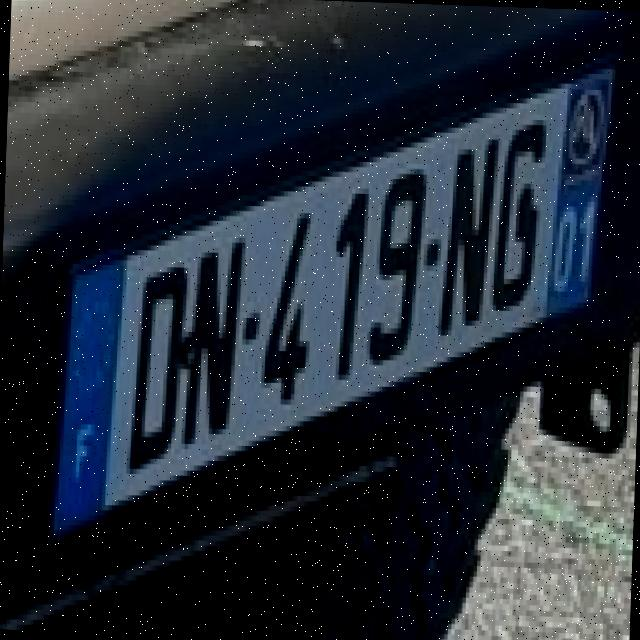EU: (54, 62, 607, 535)
France: (55, 255, 126, 534)
